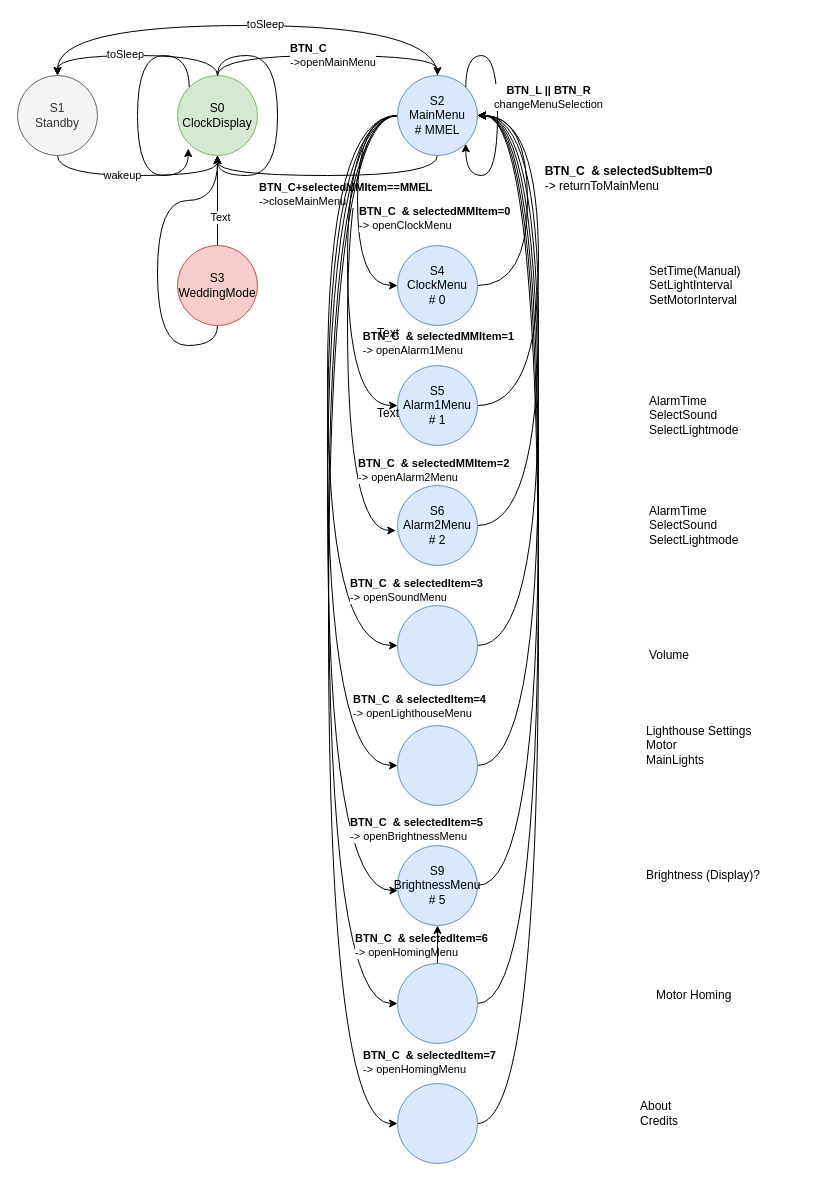
The diagram is 825 pixels wide and 1181 high, and some of its shapes have lost their labels. Here are the shapes that lost their labels. From the top down, the box of each, then its label:
(396, 604, 478, 686): S7 SoundMenu # 3
(396, 724, 478, 806): S8 LighthouseMenu # 4
(396, 962, 478, 1044): S10 HomingMenu # 6
(396, 1082, 478, 1164): S11 CreditsMenu # 7
